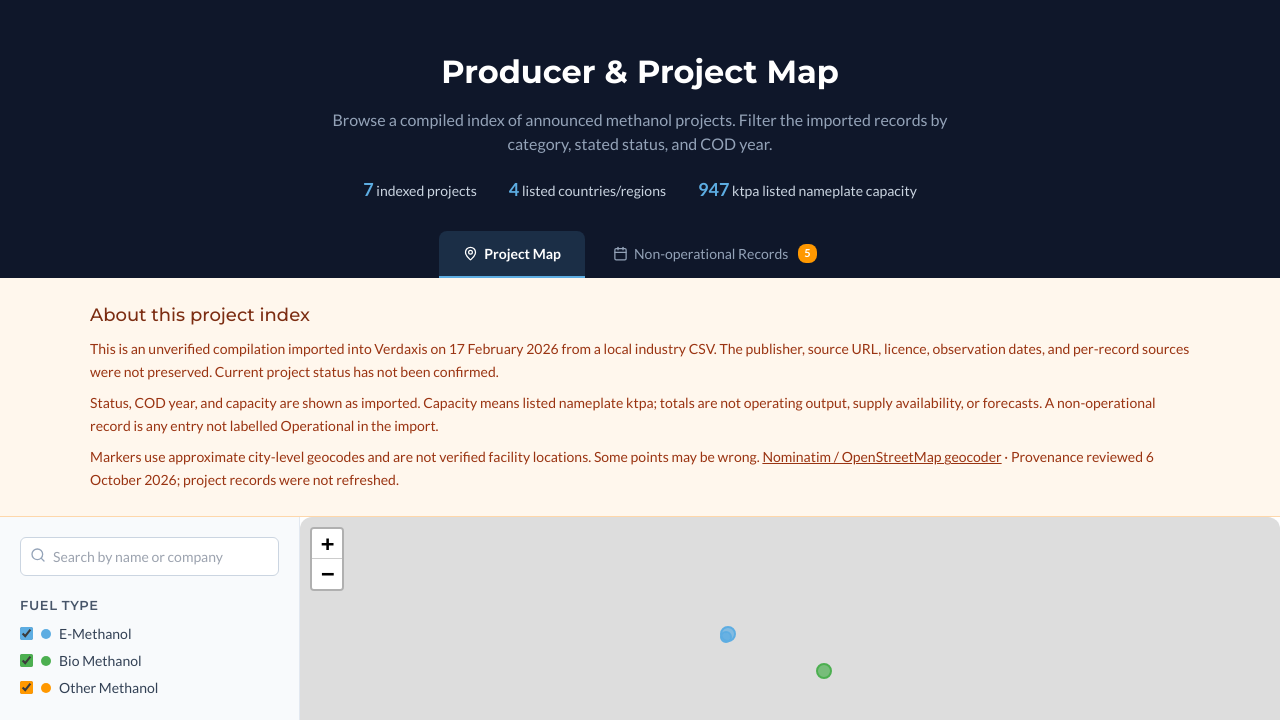
Test: ProducerMapPage - Future Production tab › shows future production marketplace when tab is clicked
What coordinates should you click on to do the following:
click the button "Non-operational Records 5"
I would click on:
 (715, 254)
Its box is [589, 231, 841, 278].
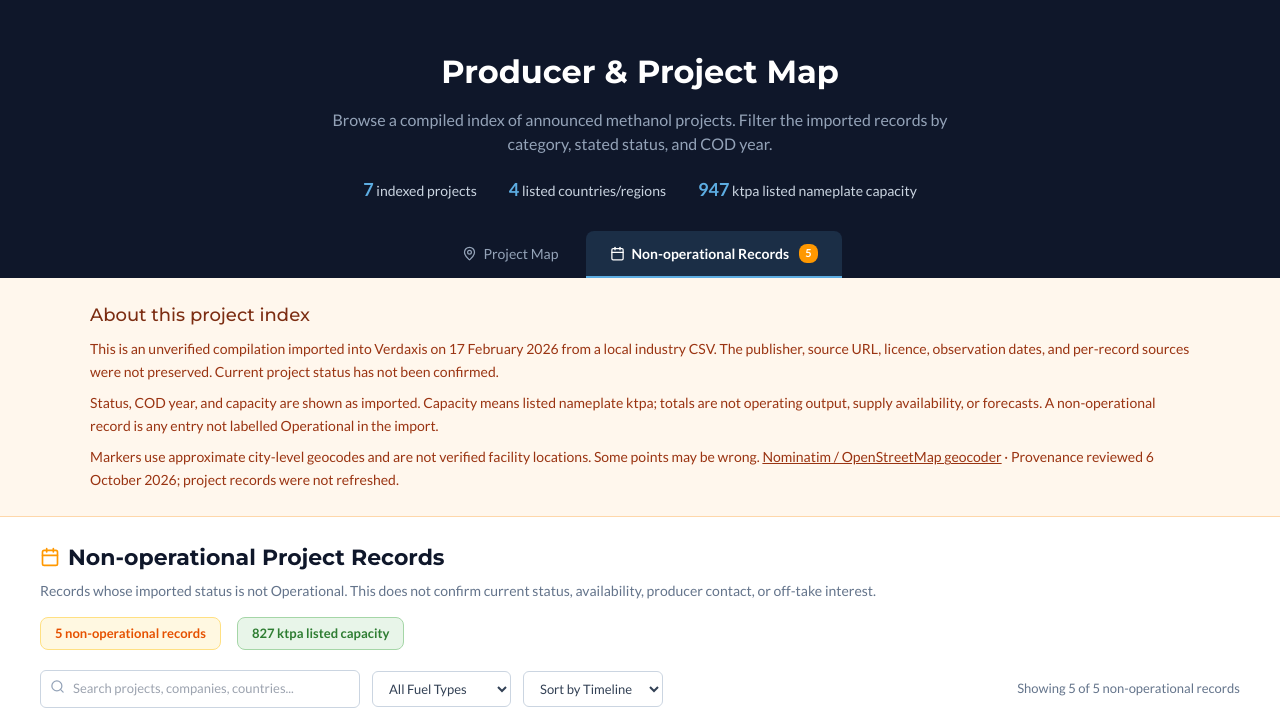
Check: the heading "Non-operational Project Records" is shown, box [40, 544, 444, 571]
